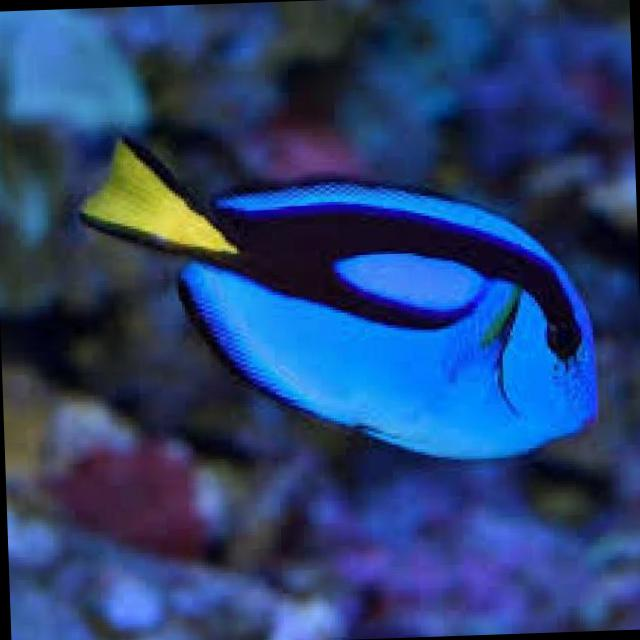TangFish: (72, 111, 599, 472)
